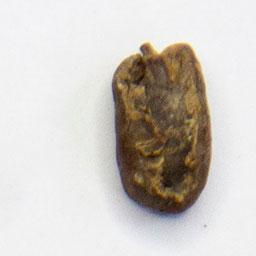defect: (109, 39, 216, 215)
